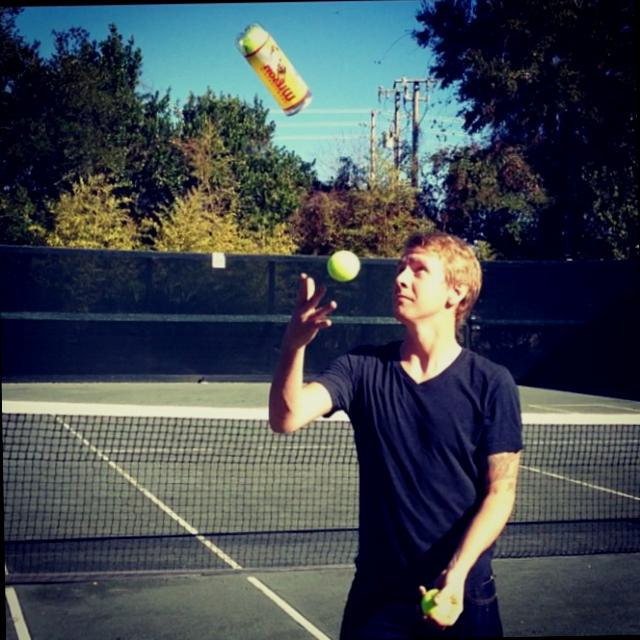Tennis Ball: (327, 249, 360, 282)
